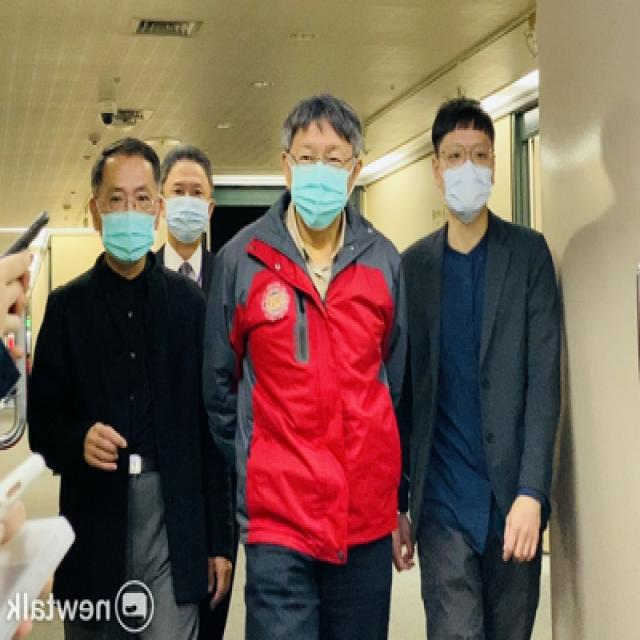mask: (288, 137, 355, 230), (96, 182, 162, 264), (440, 134, 496, 224), (162, 173, 212, 243)
